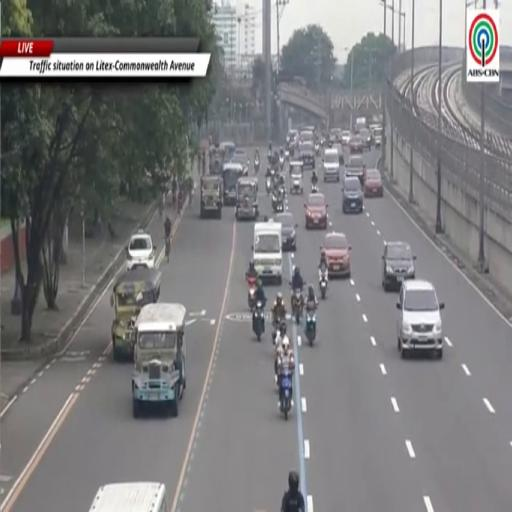car: (397, 280, 444, 358), (382, 242, 416, 291), (321, 232, 351, 277), (126, 230, 155, 270), (276, 212, 297, 250), (305, 194, 327, 229), (342, 177, 363, 213), (345, 155, 366, 185), (323, 148, 339, 182), (364, 169, 383, 197), (232, 149, 250, 175), (299, 141, 315, 169), (348, 134, 364, 155), (359, 128, 372, 151), (373, 126, 383, 148), (299, 130, 314, 142), (330, 128, 341, 142), (342, 131, 350, 146)
jeepney: (132, 303, 186, 418), (111, 268, 161, 361), (200, 176, 223, 218), (236, 178, 258, 220), (223, 163, 243, 205), (290, 160, 303, 195), (209, 147, 224, 175), (220, 141, 235, 162)
motorcycle: (279, 366, 292, 420), (253, 301, 264, 341), (305, 310, 316, 346), (292, 288, 303, 324), (272, 318, 284, 345), (248, 278, 256, 311), (319, 270, 328, 299), (273, 198, 284, 213), (266, 176, 272, 195), (254, 157, 259, 173), (314, 142, 320, 155), (279, 155, 284, 170), (311, 184, 318, 194), (268, 151, 272, 164), (271, 167, 275, 180), (285, 149, 289, 159), (321, 138, 325, 147)
